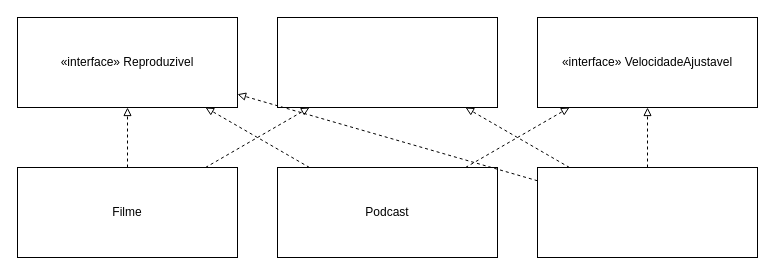
Image size: 775x275. Some labels were removed from this diagram. Here are the shapes that lost their labels. From the top down, the centre of each, then its label:
the point at 387,62: «interface» Baixavel
the point at 647,212: Audiobook
